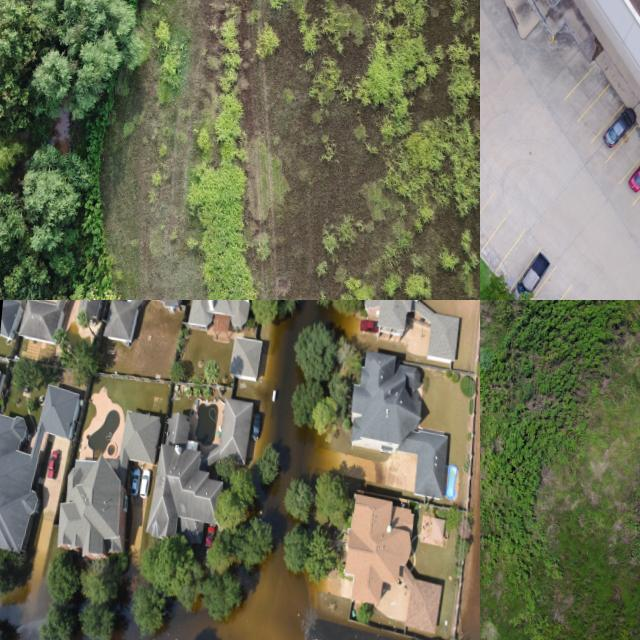fire: (107, 300, 360, 640)
